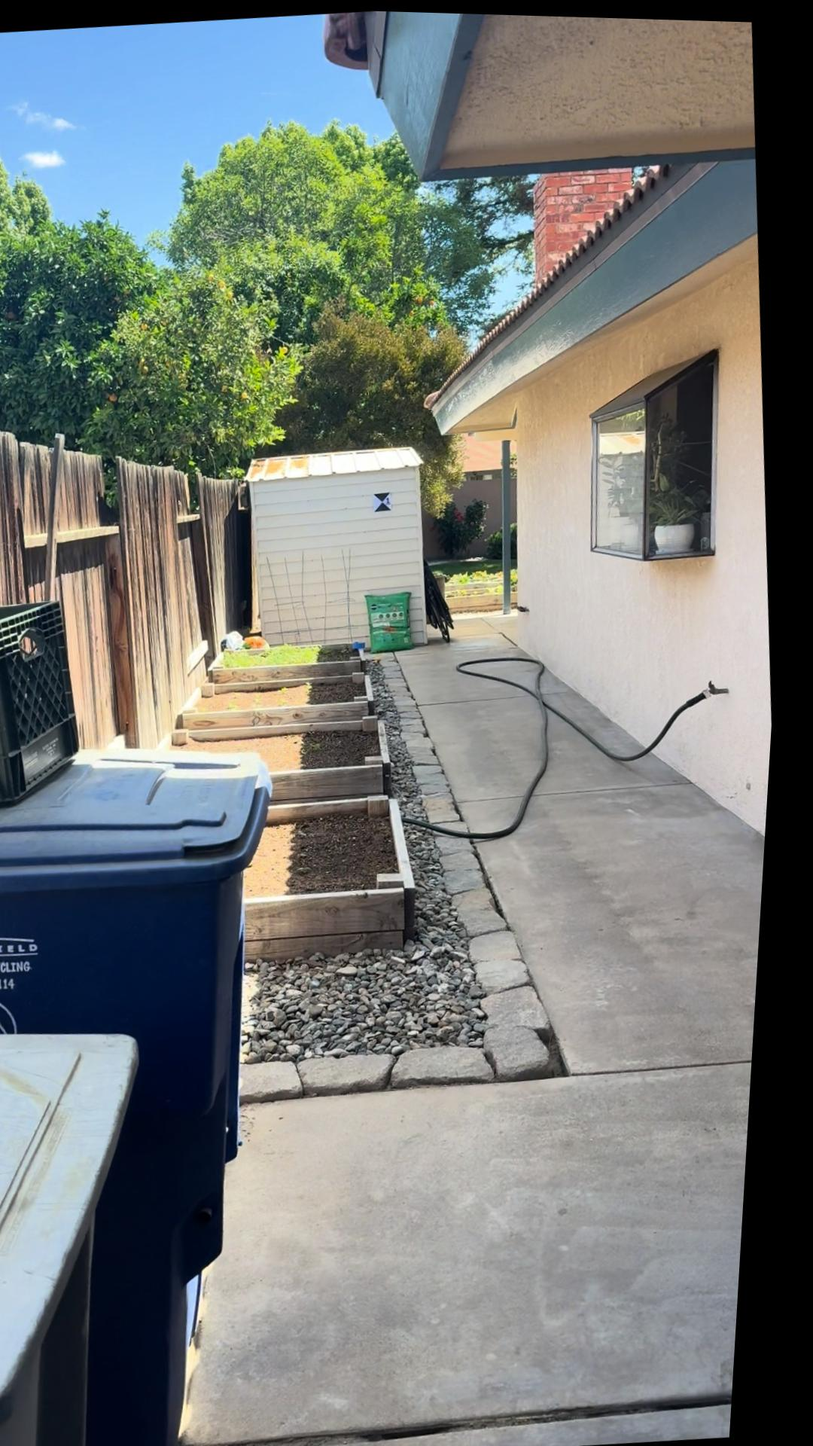target1: (368, 489, 396, 515)
